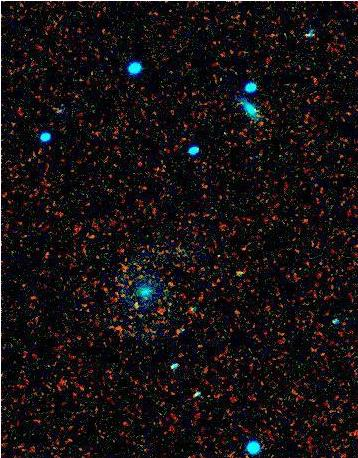star: (121, 288, 151, 318)
